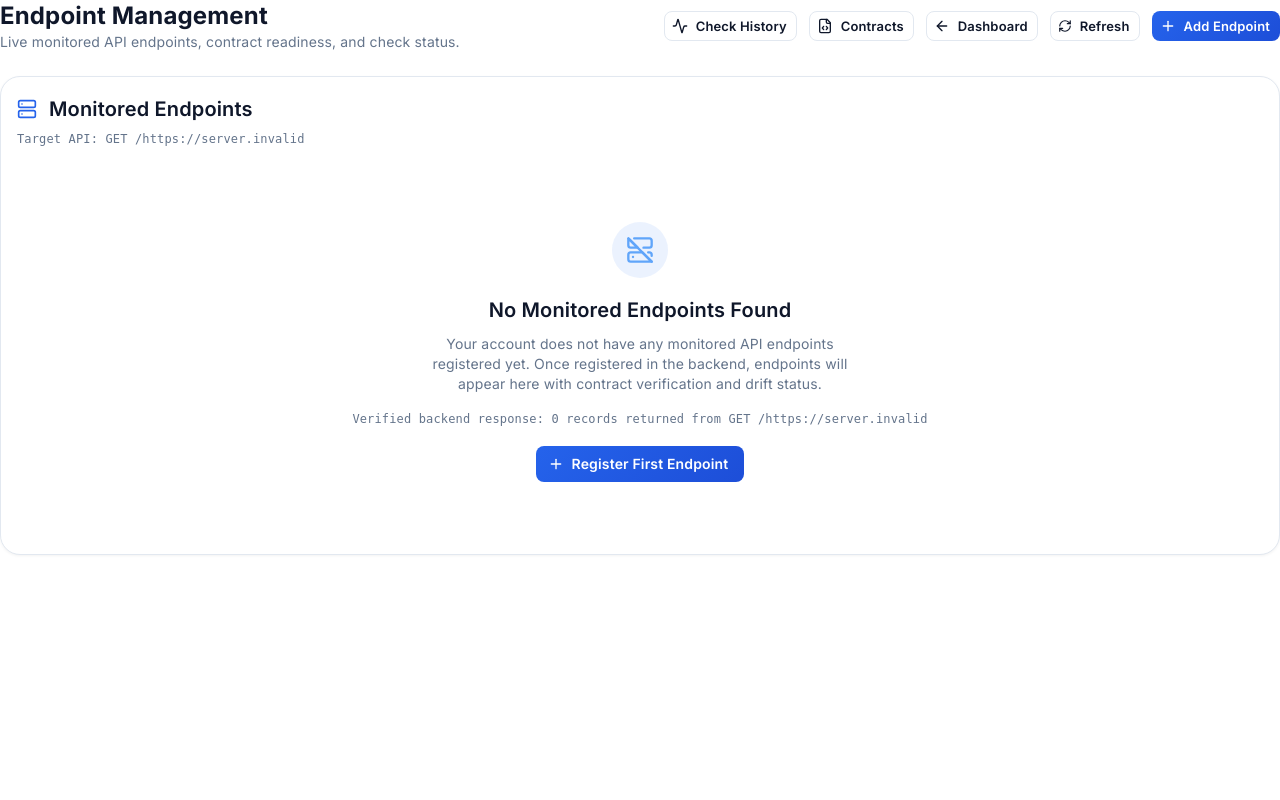
Test: EndpointsPage › opens ManageContractDialog when header Contracts button is clicked
Click the button with test id "open-contracts-btn" at (861, 26), box [809,11,914,41]
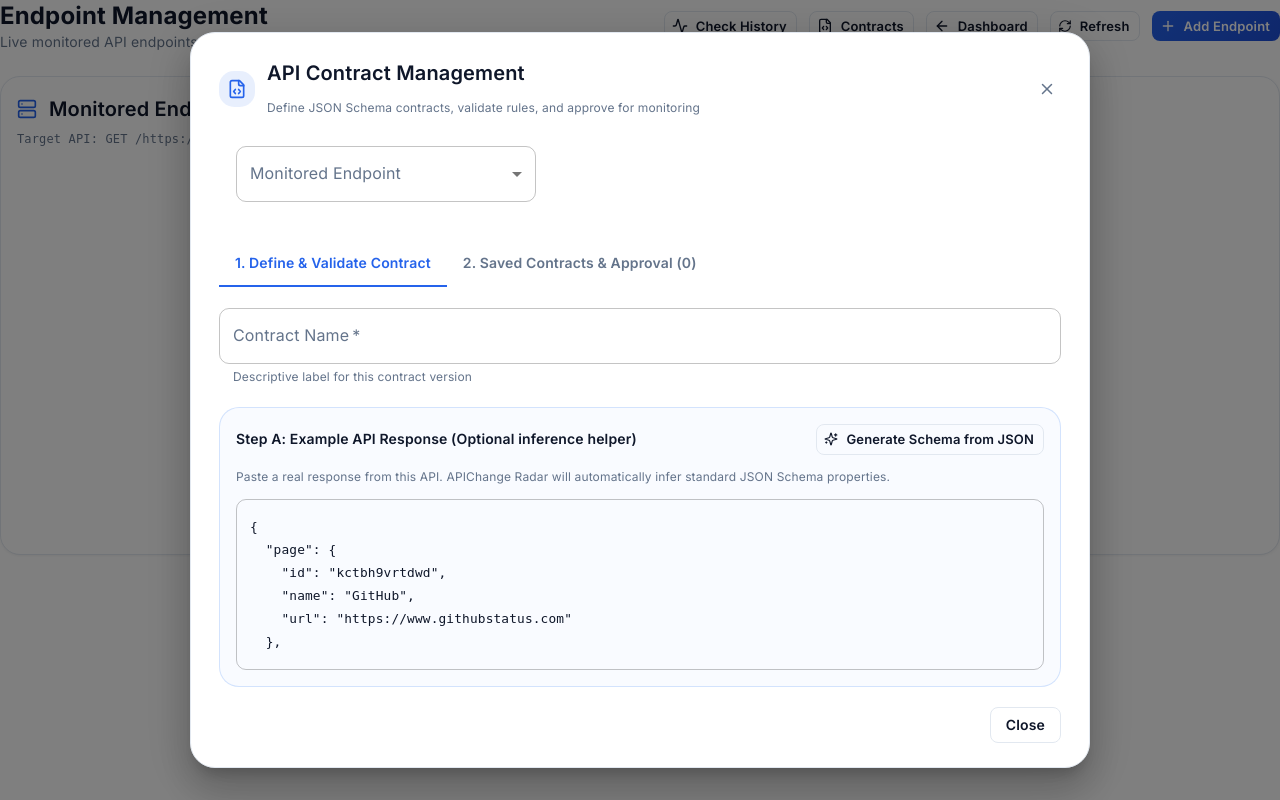
Now the element with test id "manage-contract-dialog" is shown
